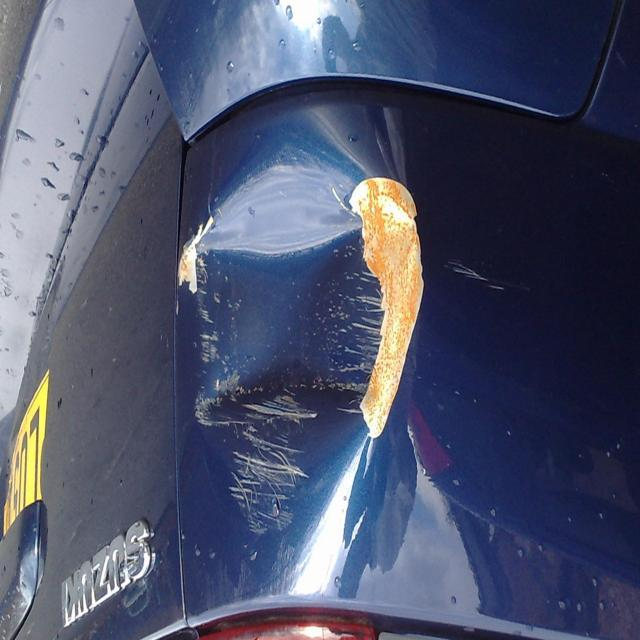dent: (177, 143, 386, 582)
